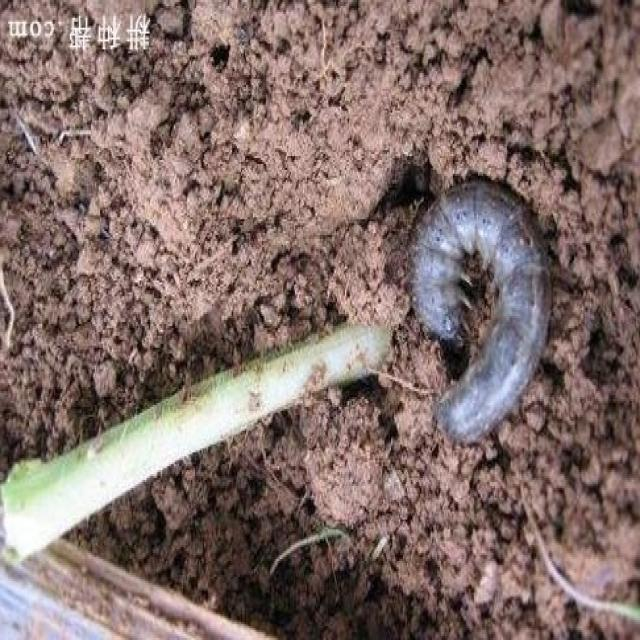black cutworm: (398, 188, 557, 443)
